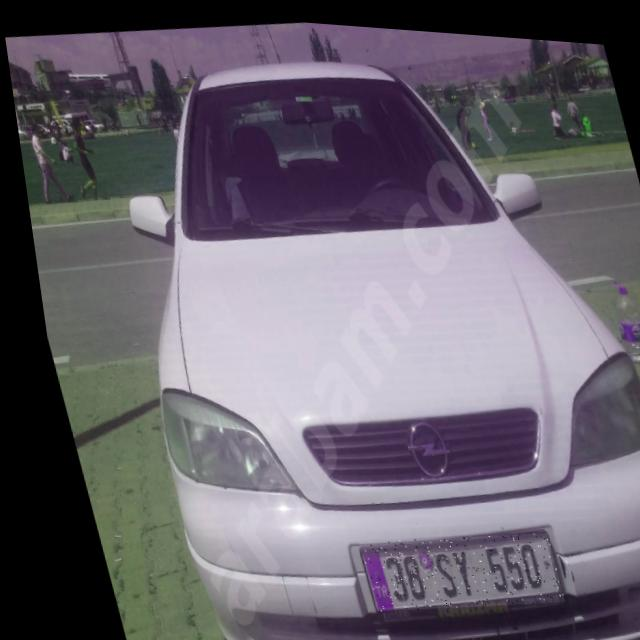license_plate: (340, 514, 550, 617)
